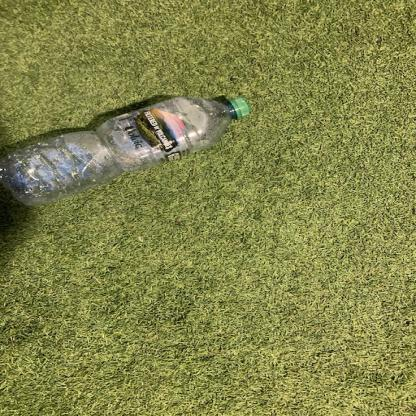trash: (1, 90, 253, 208)
